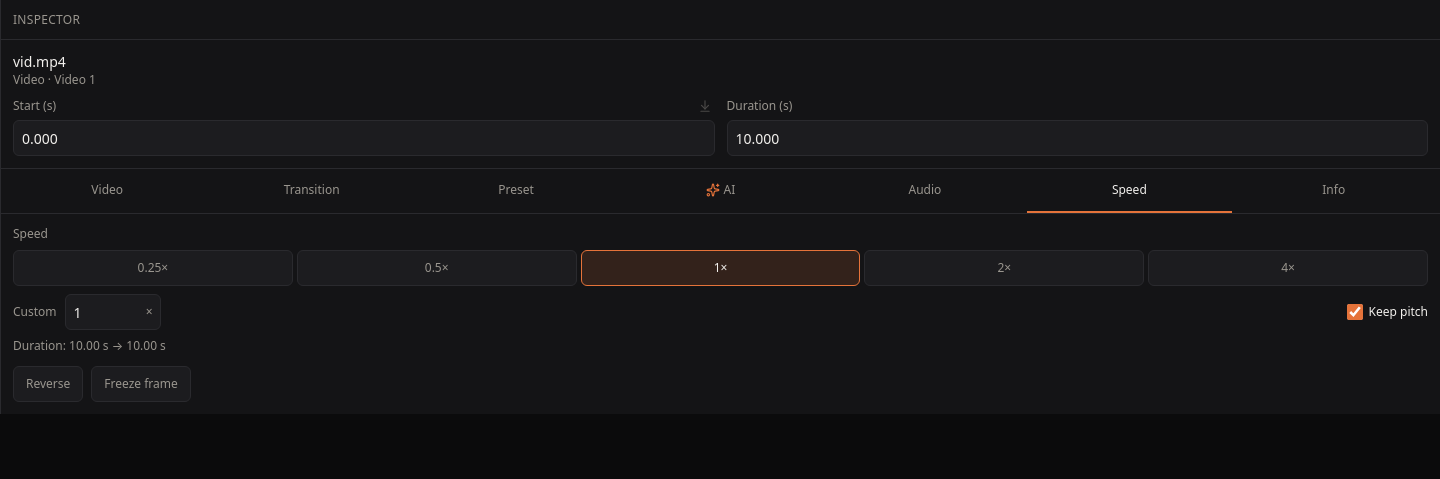
it: Speed panel › custom value: live label while typing, validation, commit on Enter
Replace the text in the number field labelled "Custom" with "4" at (113, 312), box [65, 294, 161, 330]
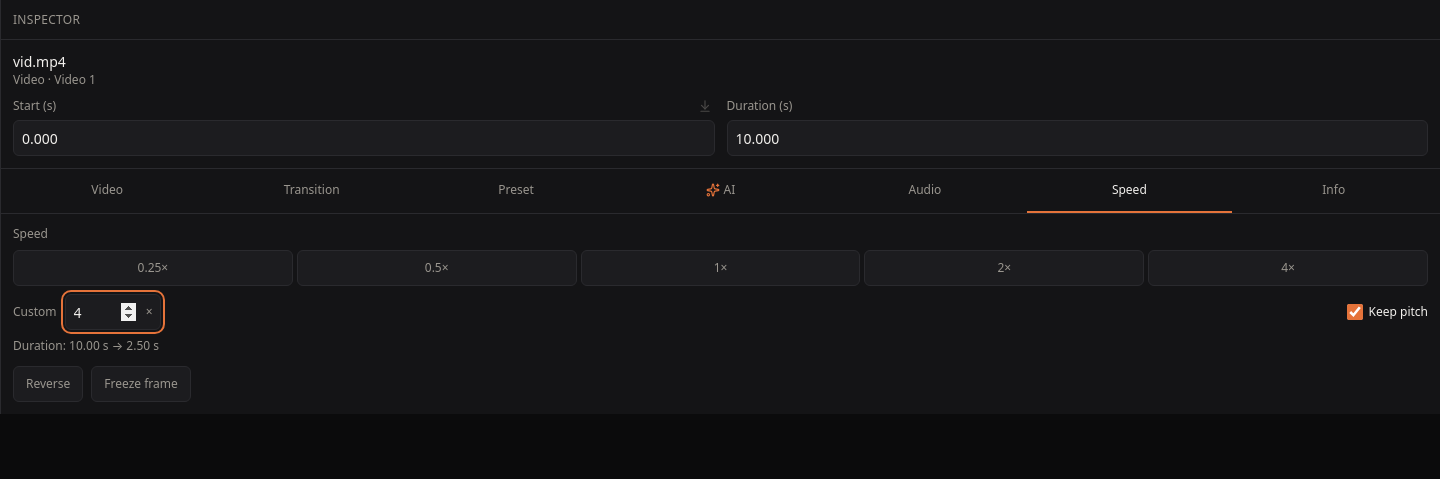
expect the text with test id "speed-duration" shows "→ 2.50 s": met, box [13, 337, 159, 354]
Replace the text in the number field labelled "Custom" with "20" at (113, 312), box [65, 294, 161, 330]
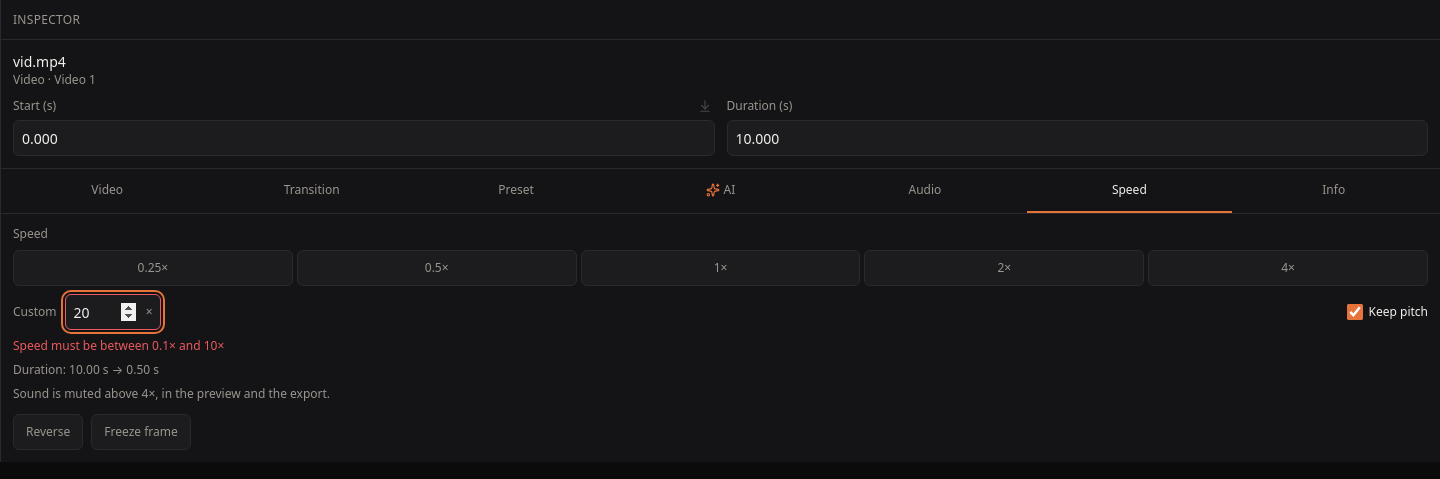
expect the message shows "between 0.1× and 10×": met, box [13, 337, 224, 354]
Press Enter in the number field labelled "Custom", box [65, 294, 161, 330]
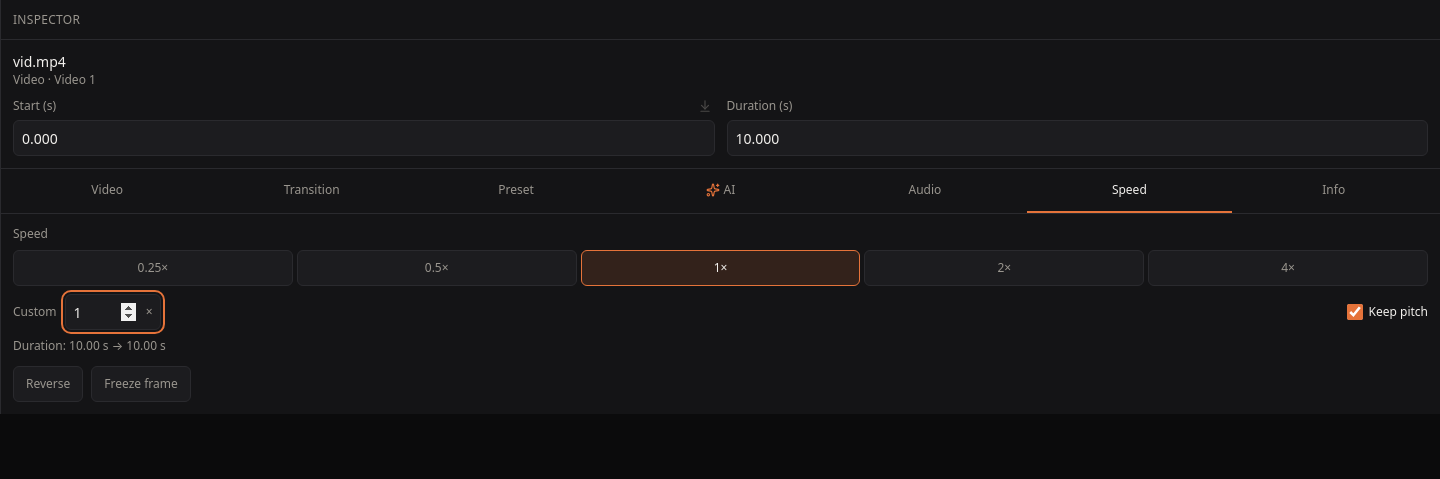
Replace the text in the number field labelled "Custom" with "8" at (113, 312), box [65, 294, 161, 330]
Then press Enter
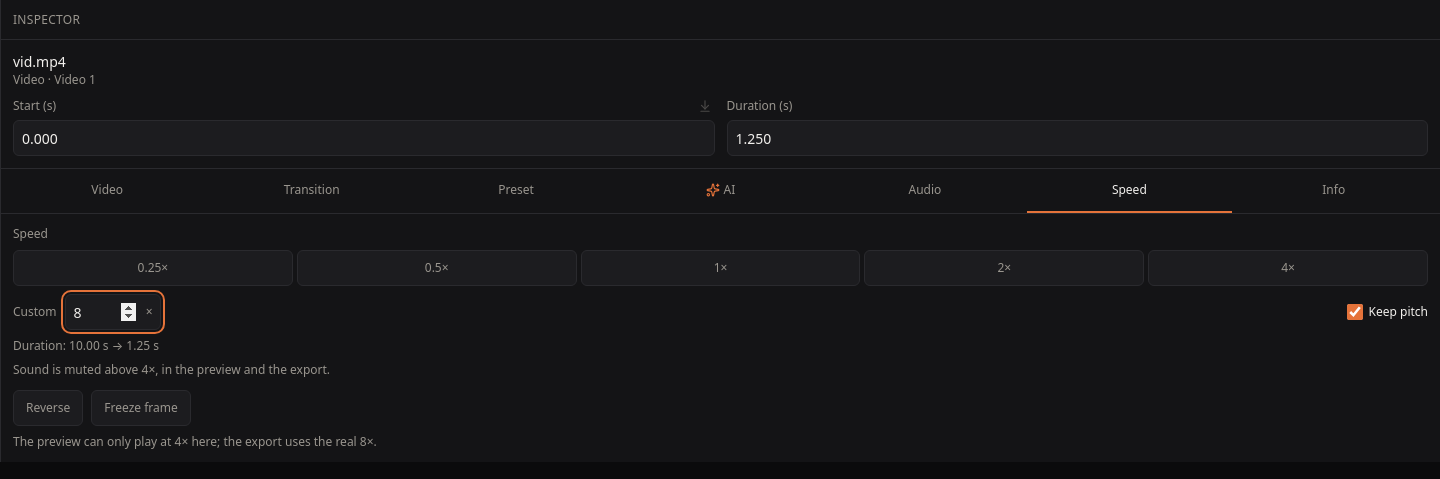
expect the text "Sound is muted above 4×, in the preview and the export." is shown: met, box [13, 361, 330, 378]
expect the text "preview can only play at 4× here; the export uses the real 8×" is shown: met, box [13, 433, 377, 450]
